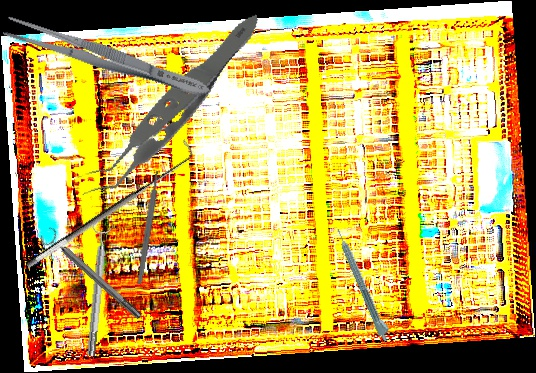Dressing Forceps: (1, 12, 213, 105)
Fixation Ring: (37, 224, 147, 326), (79, 221, 115, 357)
Handpiece: (333, 225, 395, 343)
Hook Surgical: (16, 139, 199, 271)
Scalpel Handle: (136, 170, 161, 285)
Tissue Forceps: (43, 11, 293, 200)
